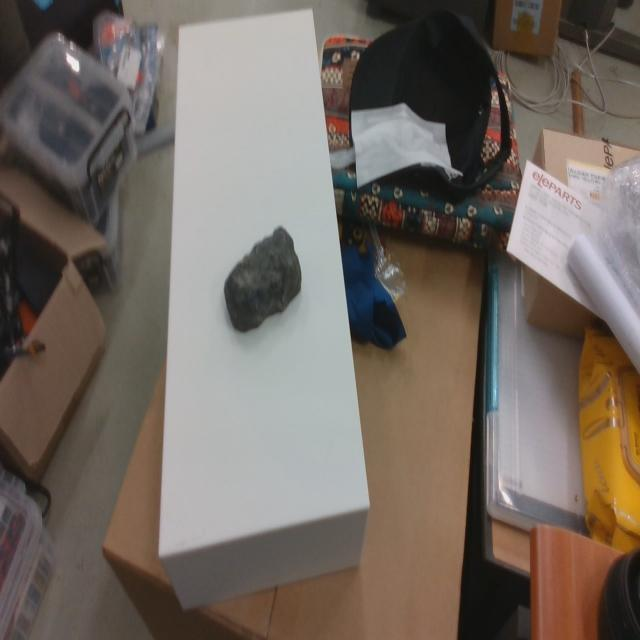stone: (224, 227, 302, 333)
